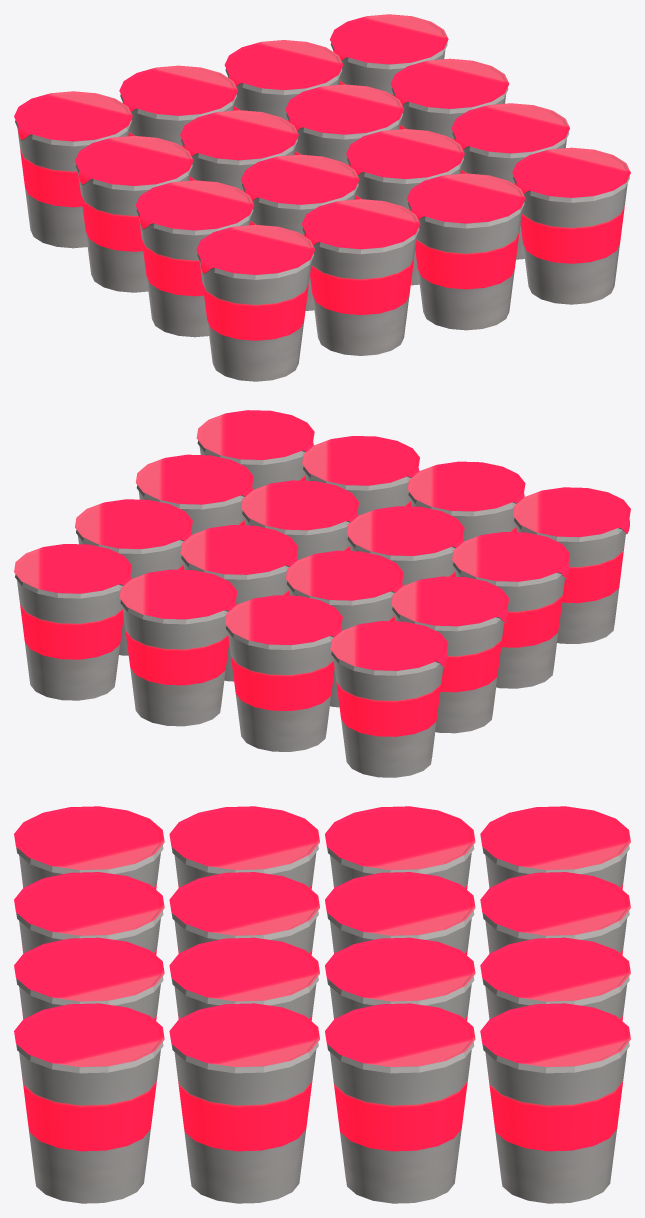
The model's file is Cup_Noodle.fbx.
The picture shows the model from 3 angles, top to bottom: view 1: azimuth 30°, elevation 25°; view 2: azimuth 150°, elevation 25°; view 3: azimuth 270°, elevation 25°; orthographic projection. The views are drawn at different scales.
Visible parts, largest first — view 1: cup_noodle2; view 2: cup_noodle2; view 3: cup_noodle2.
Boxes of the visible parts, x1,y1,x2,y2 form: cup_noodle2: (14, 14, 630, 381); cup_noodle2: (14, 410, 630, 777); cup_noodle2: (14, 806, 630, 1203).
Bounding box in the file's own units: 59.97 × 15.47 × 59.55.
